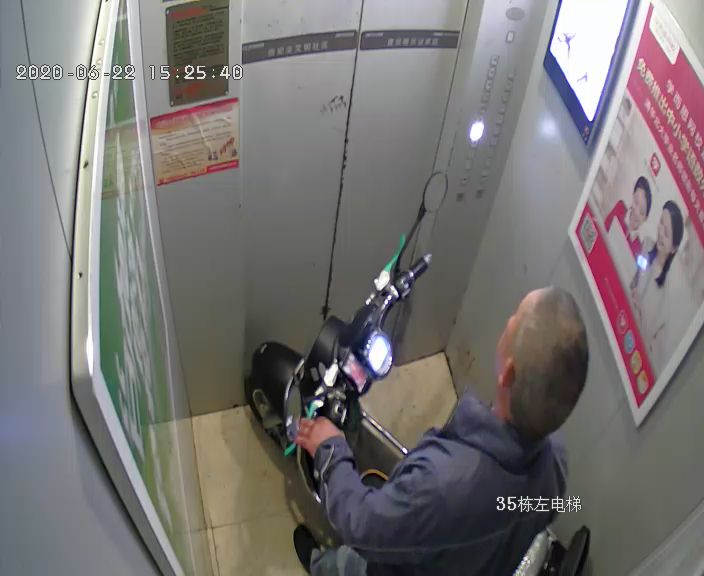Electric-bicycle: (249, 167, 590, 576)
